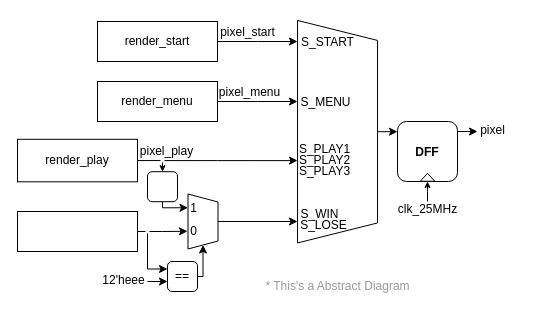
Some shapes in this 535 by 318 pixel diagram are drawn without their labels. The shapes that lost their labels are listed below. From the top down, each one's centre as x and y in pixels, then its label:
At (x=162, y=186): "tint".
At (x=77, y=231): "render_winlose".
